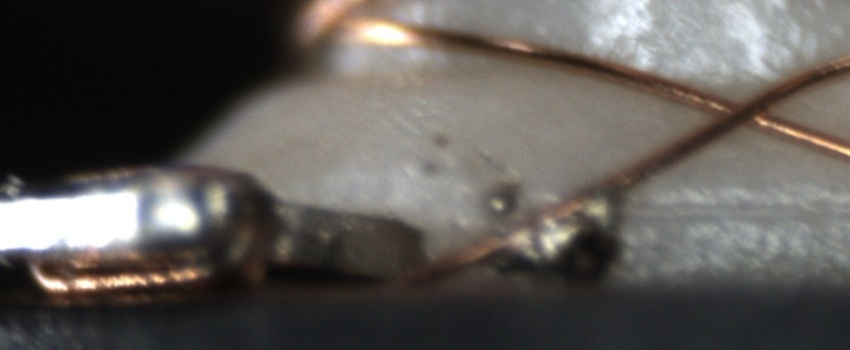CL: (697, 81, 794, 139)
DL: (626, 176, 850, 240)
TE: (13, 161, 272, 302)
